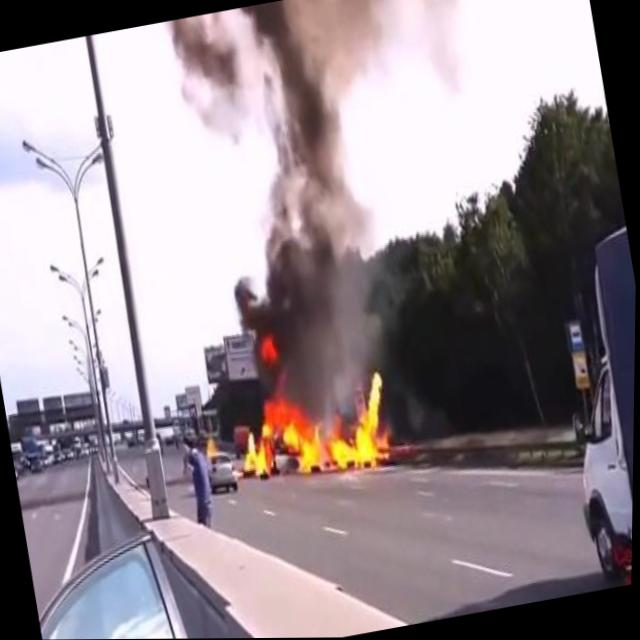fire: (230, 364, 403, 499), (256, 330, 287, 372), (202, 429, 220, 459)
